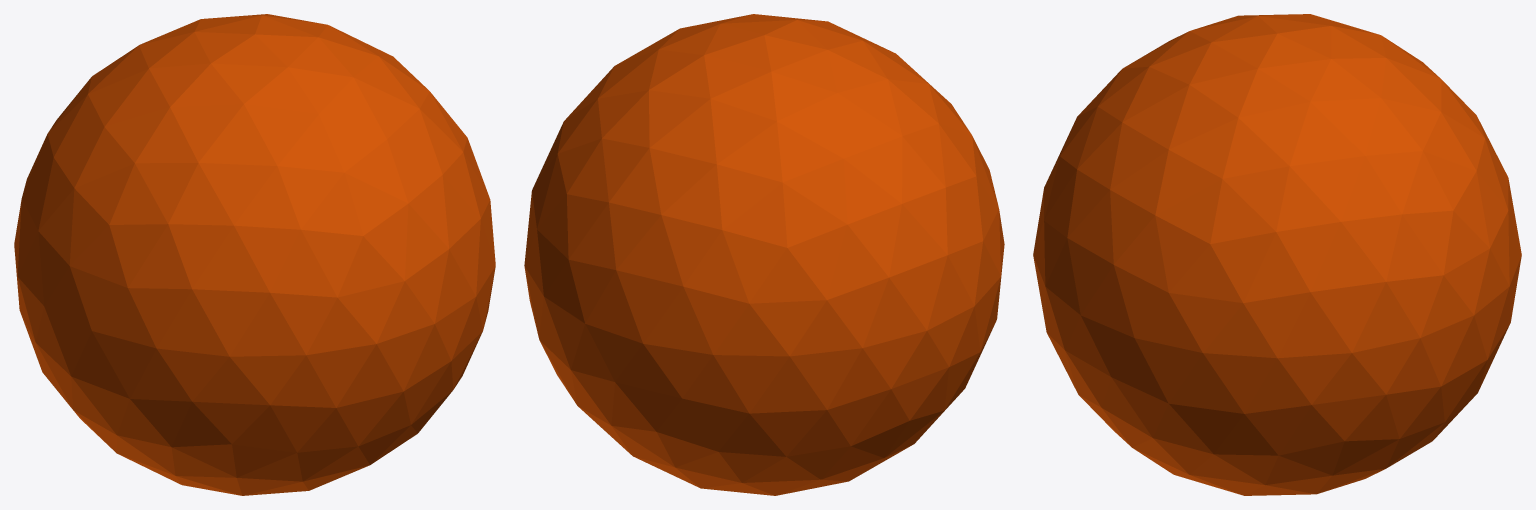
The model's file is bomb.FBX.
3 views of the same model, side by side, from view 1: azimuth 30°, elevation 25°; view 2: azimuth 150°, elevation 25°; view 3: azimuth 270°, elevation 25° (orthographic).
Visible parts, largest first — view 1: VIFS001; view 2: VIFS001; view 3: VIFS001.
Boxes of the visible parts, x1,y1,x2,y2 form: VIFS001: (14,14,495,495); VIFS001: (524,14,1004,495); VIFS001: (1033,14,1521,495).
Bounding box in the file's own units: 0.4 × 0.4 × 0.4.
